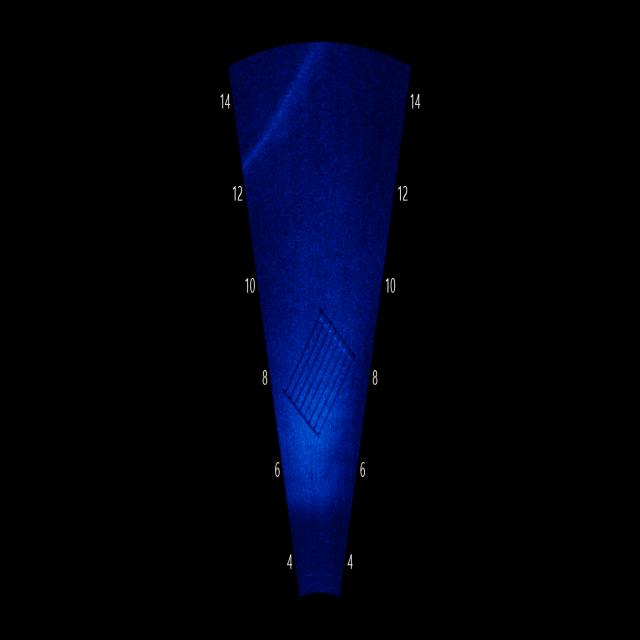square: (284, 294, 358, 442)
